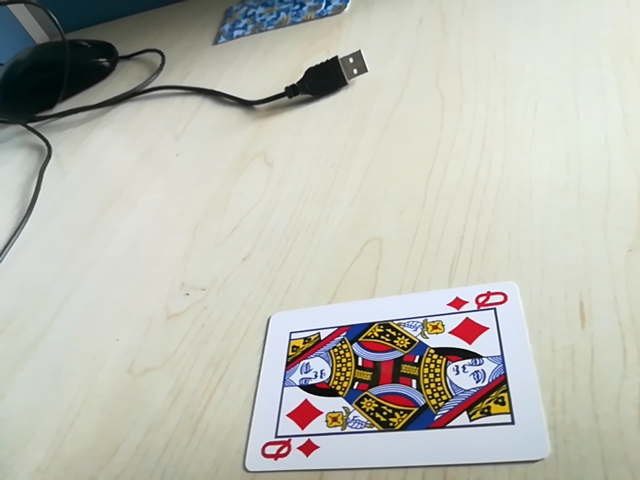fk q: (257, 434, 318, 467), (446, 287, 513, 315)
